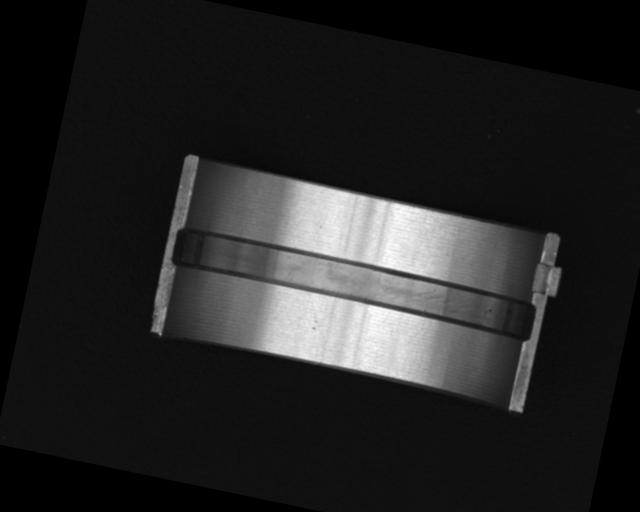gap: (167, 224, 541, 342)
